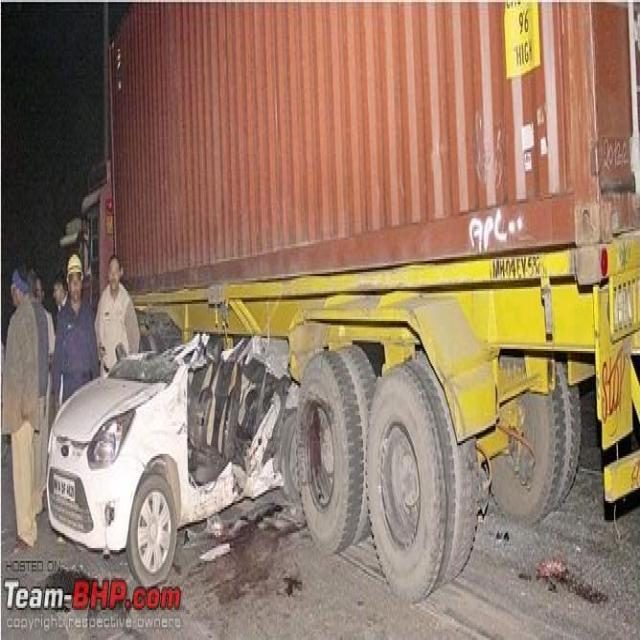accident: (48, 335, 295, 588)
truck: (64, 3, 640, 598)
